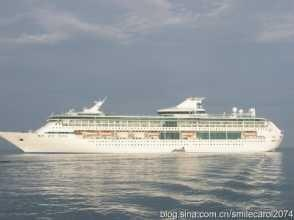youlun: (3, 88, 294, 154)
